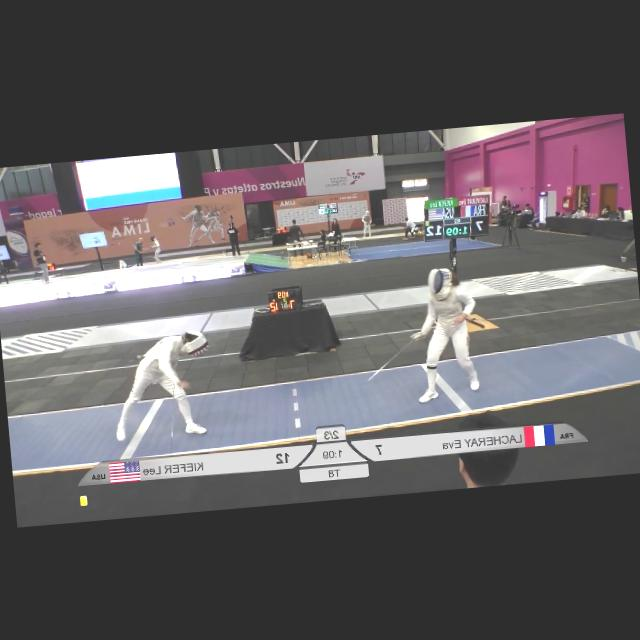blade: (356, 332, 421, 386), (162, 380, 180, 457)
